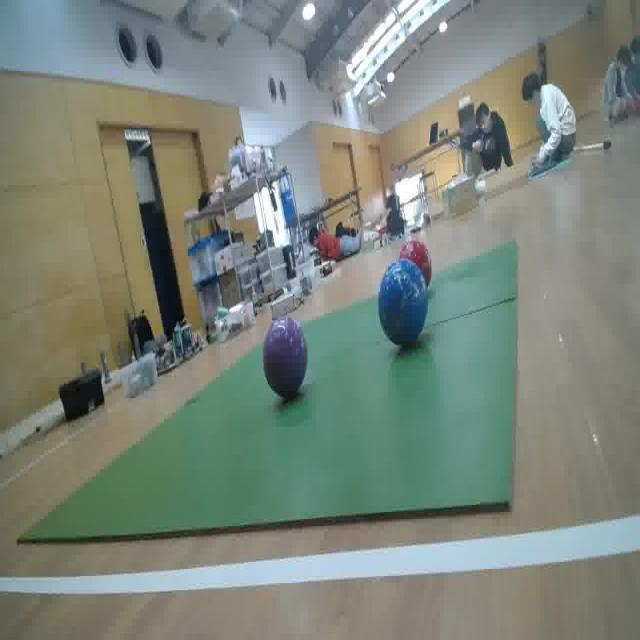blue_ball: (378, 260, 434, 347)
purple_ball: (262, 316, 310, 400)
red_ball: (400, 237, 432, 291)
